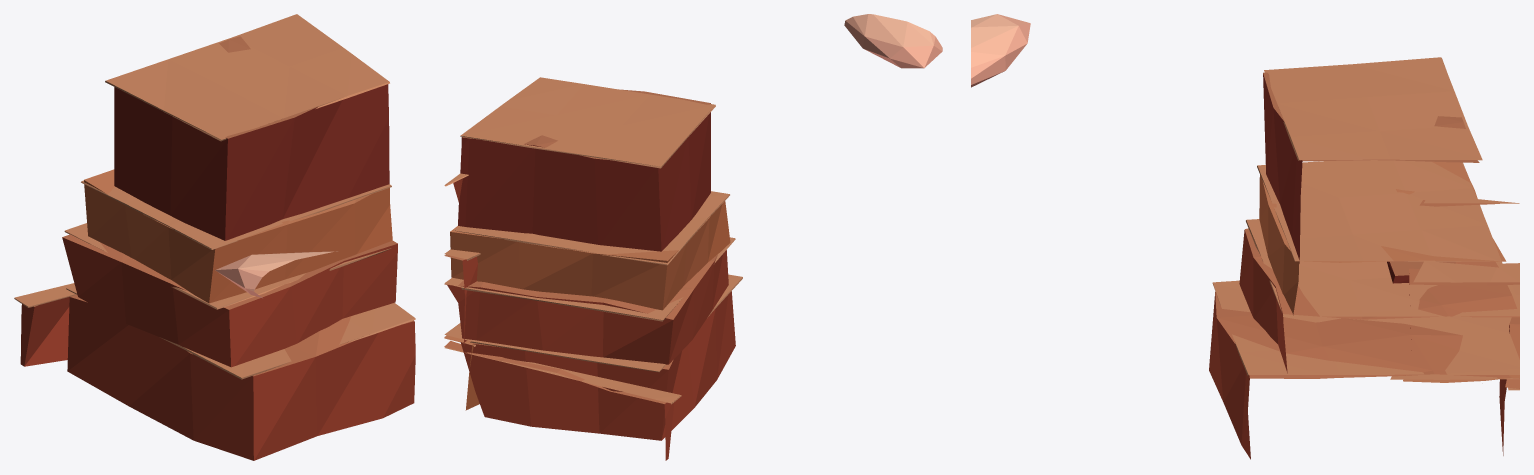
The picture shows the model from 3 angles, left to right: view 1: azimuth 30°, elevation 25°; view 2: azimuth 150°, elevation 25°; view 3: azimuth 270°, elevation 25°; orthographic projection. The views are drawn at different scales.
Parts seen in each view (by area): view 1: scene.1.5 (×2); view 2: scene.1.5 (×2); view 3: scene.1.5 (×2).
Boxes of the visible parts, x1,y1,x2,y2 form: scene.1.5 (×2): (14,14,415,460); scene.1.5 (×2): (444,14,942,460); scene.1.5 (×2): (971,14,1519,459).
Bounding box in the file's own units: 40.38 × 38.93 × 62.5.
